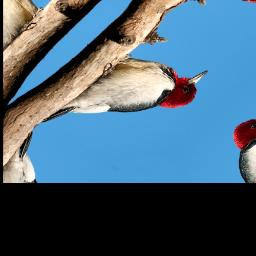Woodpecker: (41, 33, 218, 167)
